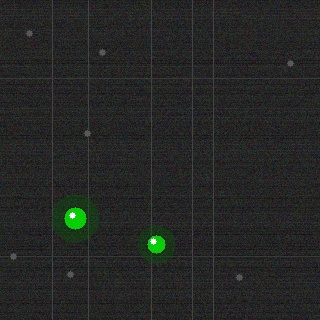green_normal: (62, 205, 88, 231), (145, 233, 167, 255)
